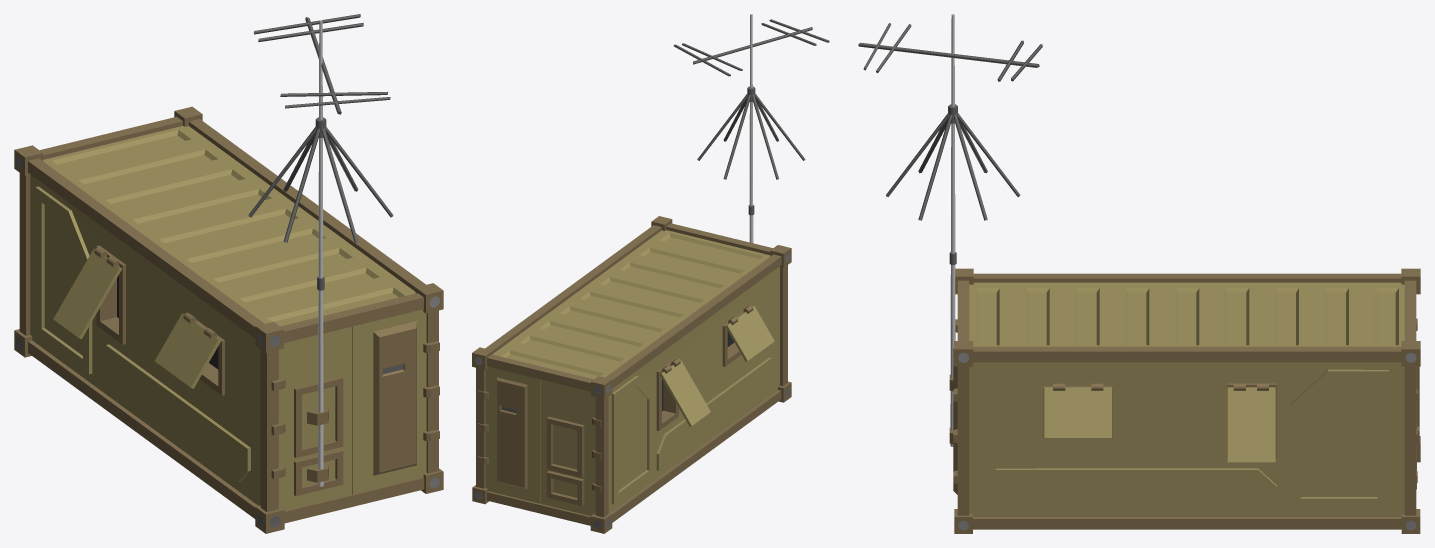
The model's file is radiostation_001.glb.
The picture shows the model from 3 angles, left to right: view 1: azimuth 30°, elevation 25°; view 2: azimuth 150°, elevation 25°; view 3: azimuth 270°, elevation 25°; orthographic projection. The views are drawn at different scales.
Parts seen in each view (by area): view 1: radiostation_001; view 2: radiostation_001; view 3: radiostation_001.
Part boxes in pixels (x1,y1,x2,y2): radiostation_001: (14, 14, 443, 533); radiostation_001: (472, 14, 829, 533); radiostation_001: (858, 14, 1420, 533).
Size of the model in its own units: 3.63 by 6.75 by 7.42.
2 materials, 2 textured.
